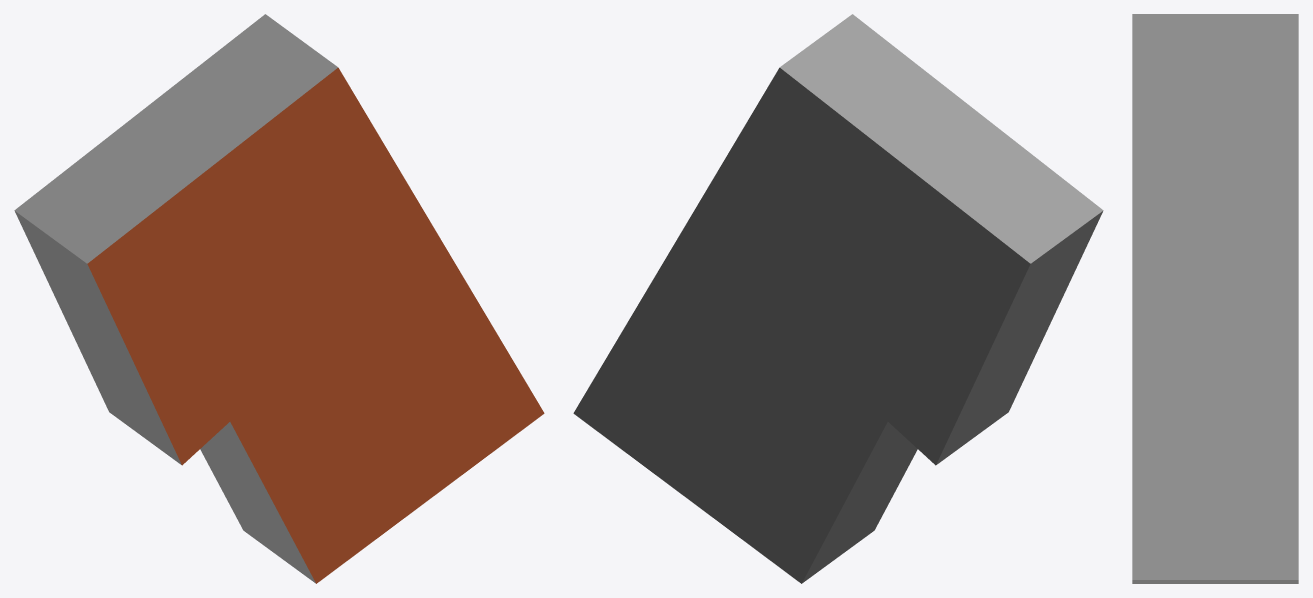
The model's file is construction_5861_actual_A_Casa_h5m.obj.
3 renders of one model, left to right at view 1: azimuth 30°, elevation 25°; view 2: azimuth 150°, elevation 25°; view 3: azimuth 270°, elevation 25°, orthographic. The views are drawn at different scales.
Visible parts, largest first — view 1: construction_5861_actual_A_Casa; view 2: construction_5861_actual_A_Casa; view 3: construction_5861_actual_A_Casa.
Boxes of the visible parts, <box> form: construction_5861_actual_A_Casa: <box>14,14,544,583</box>; construction_5861_actual_A_Casa: <box>573,14,1103,583</box>; construction_5861_actual_A_Casa: <box>1132,14,1298,583</box>.
Size of the model in its own units: 18.09 by 19.32 by 5.
